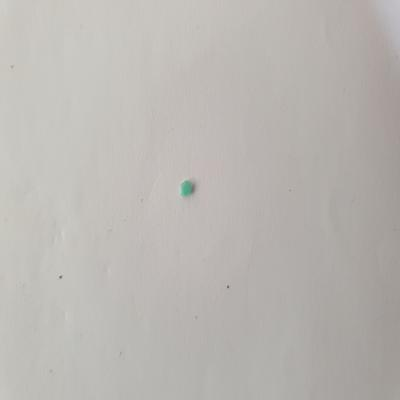plastic: (172, 175, 205, 197)
